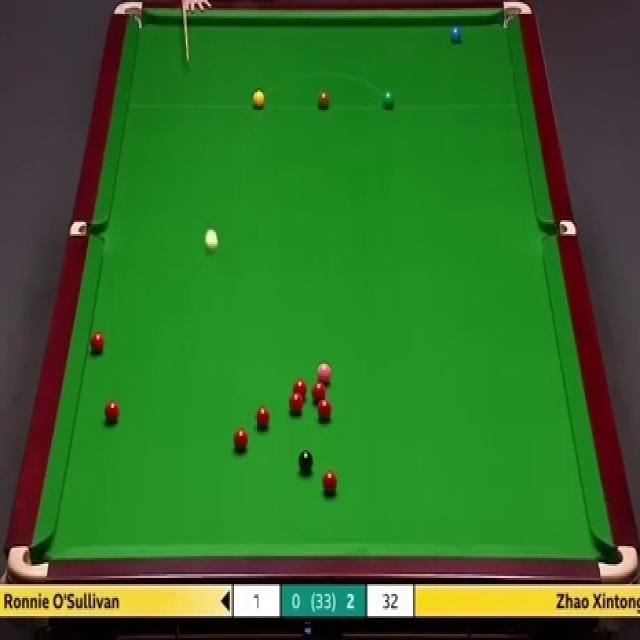black-ball: (298, 450, 315, 473)
blue-ball: (449, 24, 461, 44)
brown-ball: (318, 90, 331, 110)
green-ball: (381, 90, 395, 111)
pink-ball: (317, 360, 333, 385)
red-ball: (288, 392, 306, 416), (316, 397, 332, 422), (232, 429, 250, 451), (253, 405, 270, 428), (104, 398, 119, 424), (312, 381, 328, 405), (292, 378, 308, 400), (90, 333, 106, 355), (323, 470, 337, 492)
white-ball: (203, 228, 220, 254)
yellow-ball: (251, 89, 266, 110)
